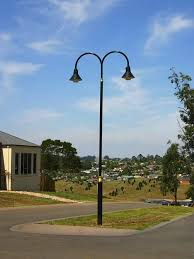light_pole: (96, 52, 106, 226)
